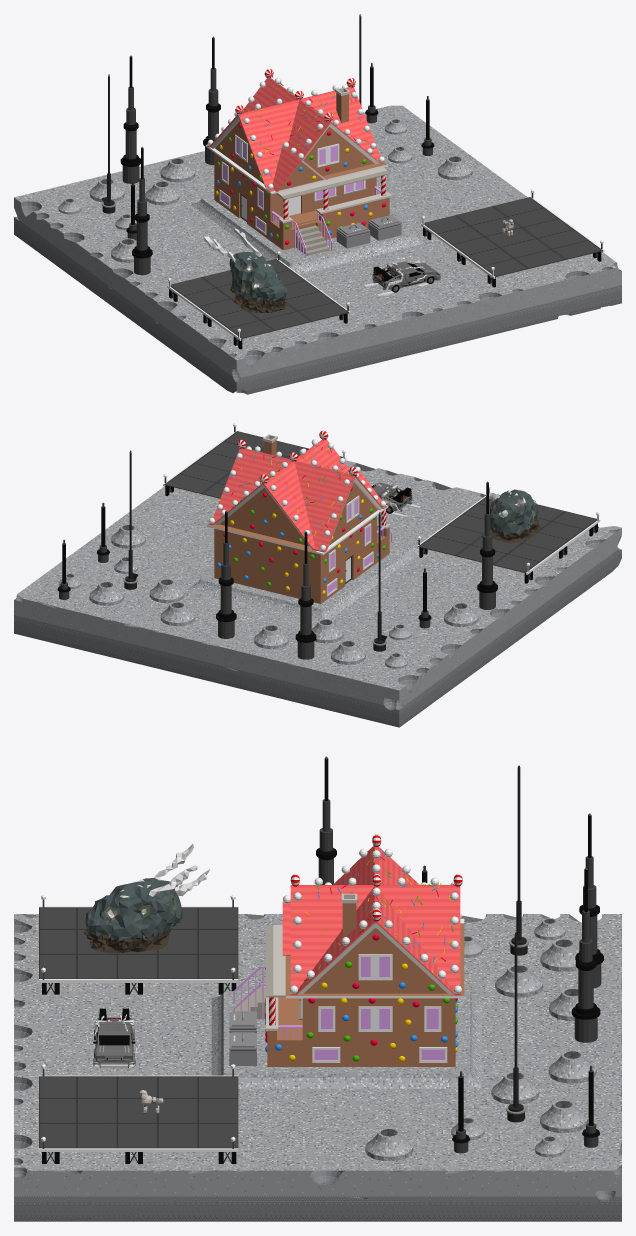
The picture shows the model from 3 angles, top to bottom: view 1: azimuth 30°, elevation 25°; view 2: azimuth 150°, elevation 25°; view 3: azimuth 270°, elevation 25°; orthographic projection. The views are drawn at different scales.
Parts seen in each view (by area): view 1: Cube.027, Cube.1203, Cube.026, Cube.025, Cube.028, OBJRANDOM_METEORITE, VEHICLES_DELOREAN, Cylinder.020, Cylinder.021, Cylinder.017, Cube.029, Cube.030 (+4 smaller); view 2: Cube.027, Cube.1203, Cube.025, Cube.028, Cube.026, OBJRANDOM_METEORITE, Cylinder.020, Cylinder.021, Cylinder.017, VEHICLES_DELOREAN, Cylinder.031, Cylinder.028 (+8 smaller); view 3: Cube.027, Cube.1203, Cube.026, Cube.025, Cube.028, OBJRANDOM_METEORITE, Cylinder.017, VEHICLES_DELOREAN, Cylinder.020, Cylinder.021, Cylinder.033, Cylinder.031 (+10 smaller).
Boxes of the visible parts, box(x1,y1,x2,y2) form: Cube.027: box(14, 105, 621, 394); Cube.1203: box(205, 69, 392, 256); Cube.026: box(421, 189, 604, 287); Cube.025: box(167, 251, 350, 349); Cube.028: box(191, 195, 424, 274); OBJRANDOM_METEORITE: box(203, 228, 287, 313); VEHICLES_DELOREAN: box(361, 256, 441, 295); Cylinder.020: box(120, 55, 140, 183); Cylinder.021: box(132, 146, 152, 275); Cylinder.017: box(203, 36, 220, 164); Cube.029: box(336, 222, 370, 248); Cube.030: box(368, 215, 401, 240); Cube.027: box(14, 460, 621, 727); Cube.1203: box(206, 430, 392, 603); Cube.025: box(417, 485, 600, 583); Cube.028: box(190, 538, 419, 620); Cube.026: box(163, 423, 346, 498); OBJRANDOM_METEORITE: box(489, 489, 540, 543); Cylinder.020: box(295, 531, 316, 659); Cylinder.021: box(477, 481, 497, 609); Cylinder.017: box(216, 510, 236, 638); VEHICLES_DELOREAN: box(370, 478, 420, 517); Cylinder.031: box(89, 581, 124, 605); Cylinder.028: box(331, 640, 365, 664); Cube.027: box(14, 914, 621, 1221); Cube.1203: box(233, 834, 464, 1066); Cube.026: box(39, 1064, 238, 1163); Cube.025: box(39, 895, 238, 994); Cube.028: box(211, 991, 481, 1088); OBJRANDOM_METEORITE: box(84, 843, 209, 952); Cylinder.017: box(571, 867, 600, 1042); VEHICLES_DELOREAN: box(85, 1008, 140, 1067); Cylinder.020: box(575, 813, 603, 988); Cylinder.021: box(316, 756, 336, 884); Cylinder.033: box(365, 1128, 413, 1160); Cylinder.031: box(540, 1100, 587, 1132).
Size of the model in its own units: 4000 by 1815 by 4000.
Materials: 44 (5 with a texture image).
